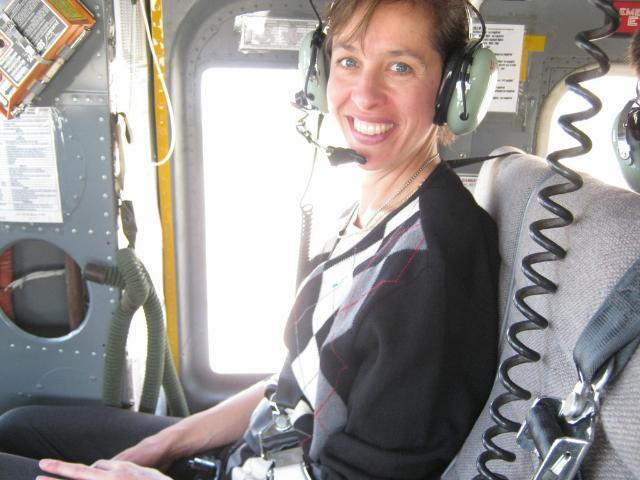SafeDriving: (378, 50, 419, 80), (328, 46, 366, 76)
Seatbelt: (252, 147, 524, 479), (514, 259, 640, 479)
